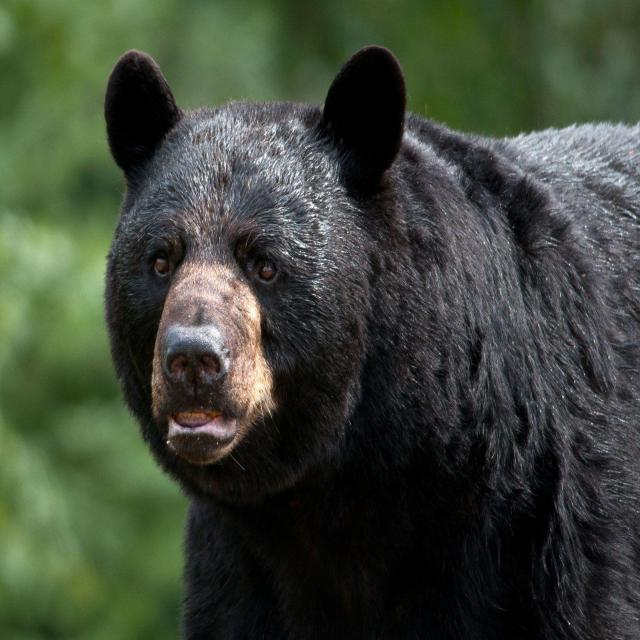Bear: (102, 46, 640, 640)
